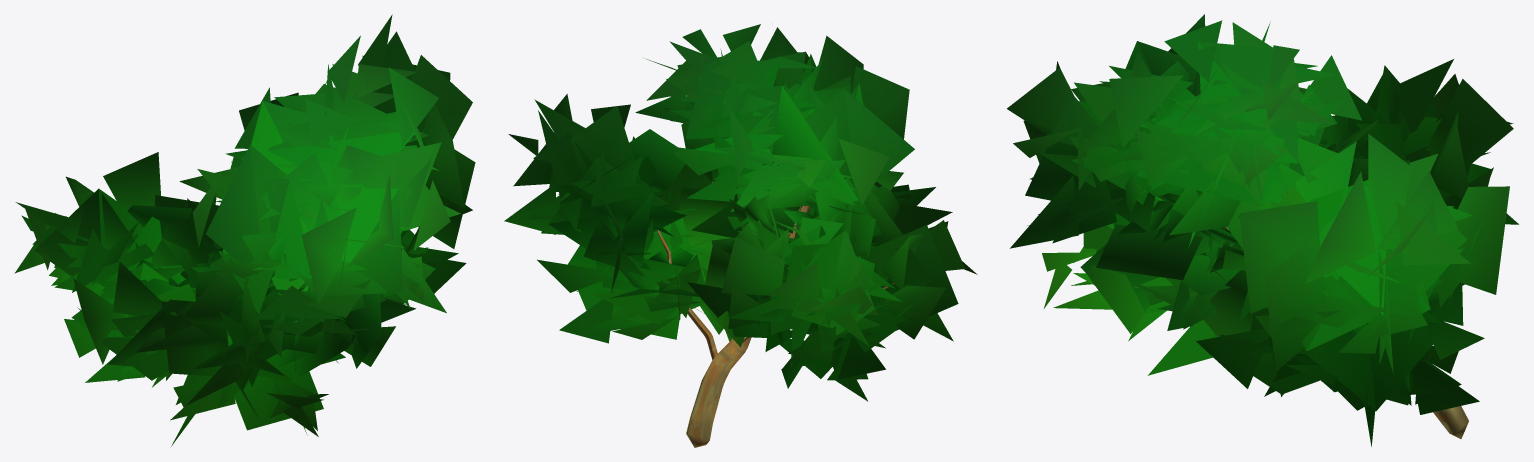
File: env_forest_gianttree_bigbranch03_lod2.fbx
3 views of the same model, side by side, from view 1: azimuth 30°, elevation 25°; view 2: azimuth 150°, elevation 25°; view 3: azimuth 270°, elevation 25° (orthographic). The views are drawn at different scales.
Visible parts, largest first — view 1: bigbranch03_lod2; view 2: bigbranch03_lod2; view 3: bigbranch03_lod2.
Boxes of the visible parts, bbox=[...] form: bigbranch03_lod2: bbox=[14, 14, 475, 446]; bigbranch03_lod2: bbox=[504, 24, 977, 447]; bigbranch03_lod2: bbox=[1007, 14, 1518, 446].
Size of the model in its own units: 128 by 105 by 110.
